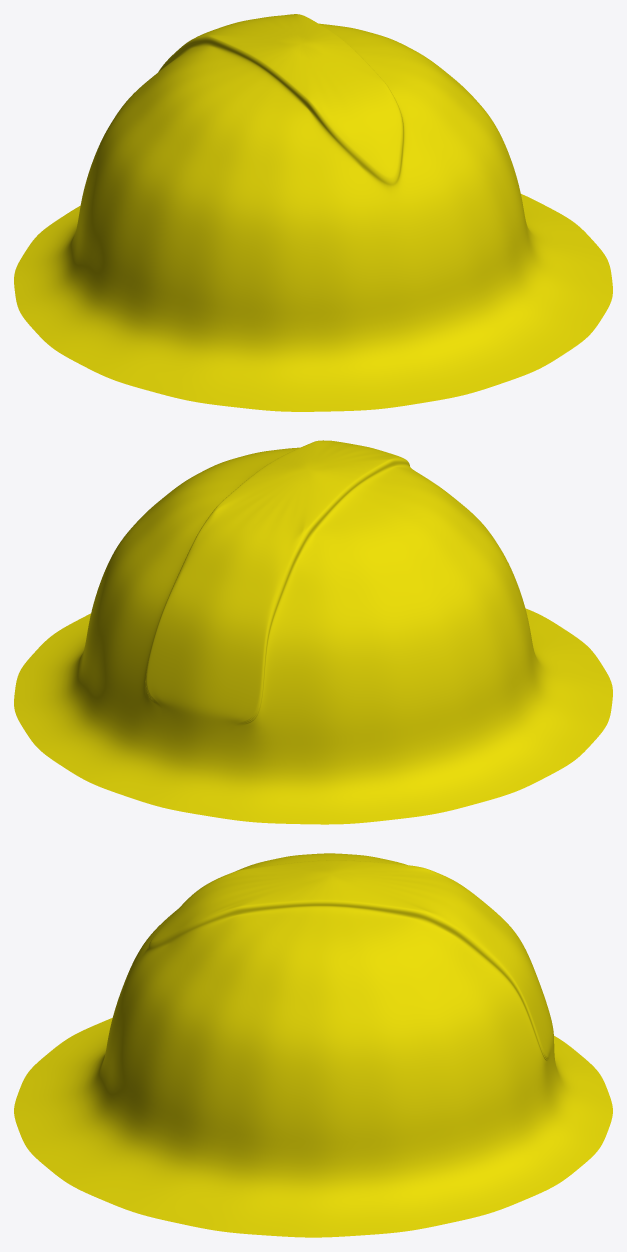
Rendered from HardHat_v2_hp.fbx.
3 views of the same model, one above another, from view 1: azimuth 30°, elevation 25°; view 2: azimuth 150°, elevation 25°; view 3: azimuth 270°, elevation 25° (orthographic).
Parts seen in each view (by area): view 1: HardHat_v2_hp; view 2: HardHat_v2_hp; view 3: HardHat_v2_hp.
Part boxes in pixels (<box>): HardHat_v2_hp: <box>14,14,612,411</box>; HardHat_v2_hp: <box>14,440,612,824</box>; HardHat_v2_hp: <box>14,853,612,1237</box>.
Bounding box in the file's own units: 1049 × 454 × 1049.
